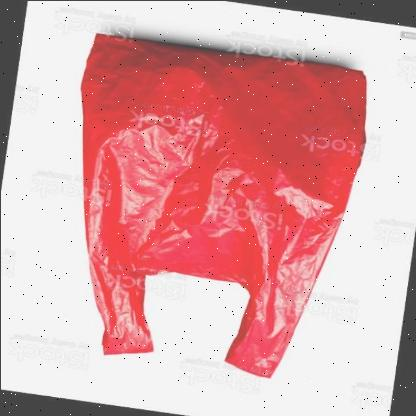Others: (78, 32, 367, 378)
